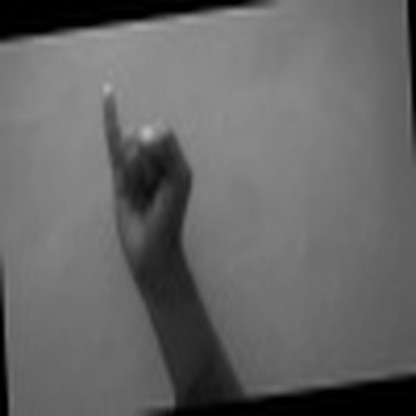i: (91, 71, 208, 271)
